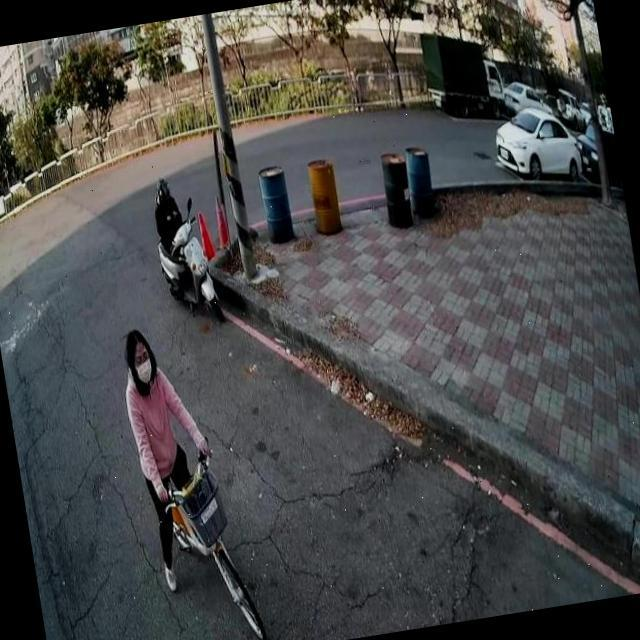person: (115, 317, 236, 596), (148, 172, 198, 284)
